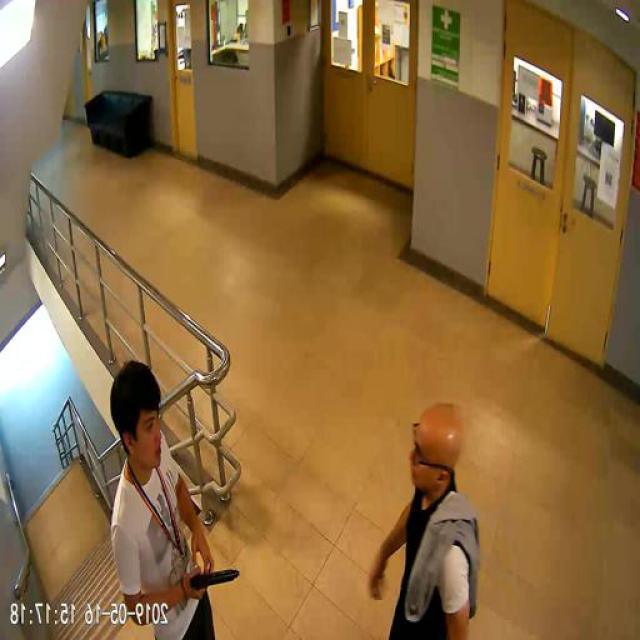Gun: (190, 564, 241, 596)
